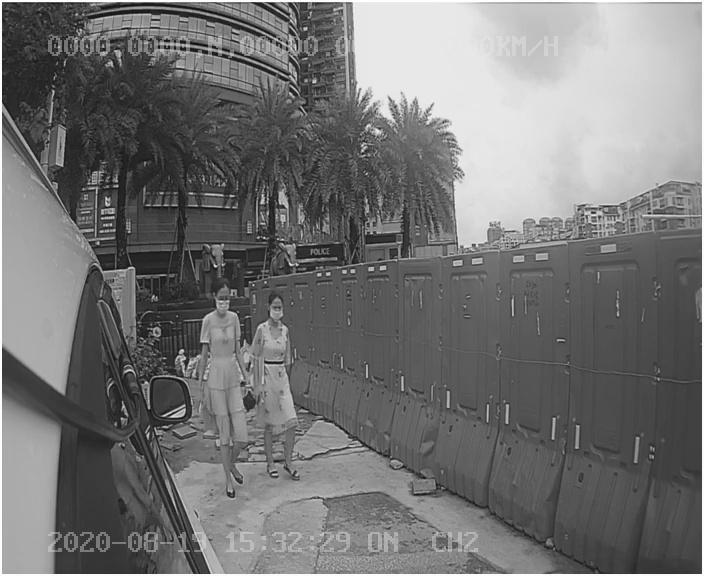person: (241, 292, 341, 502), (186, 280, 266, 495)
